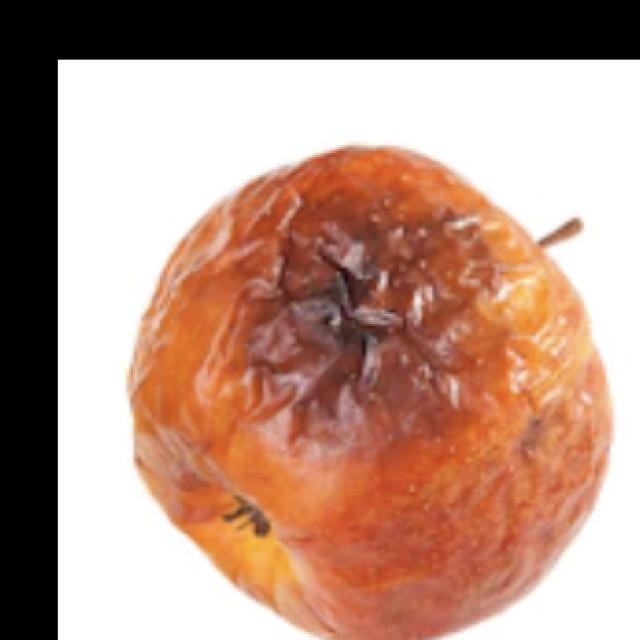Rotten: (143, 150, 625, 640)
